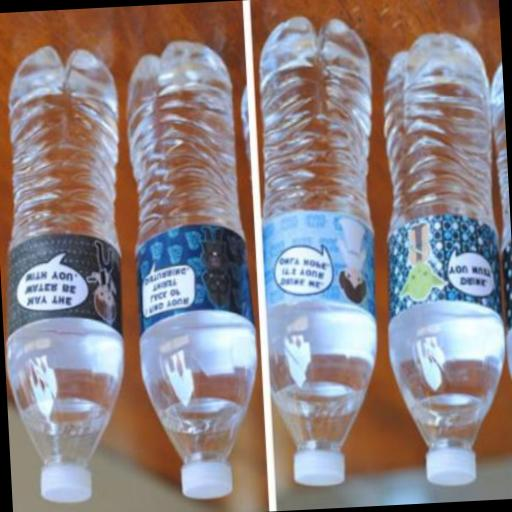Coca: (236, 1, 404, 502), (0, 36, 157, 512), (117, 34, 268, 512), (363, 22, 512, 495), (485, 48, 512, 456)
